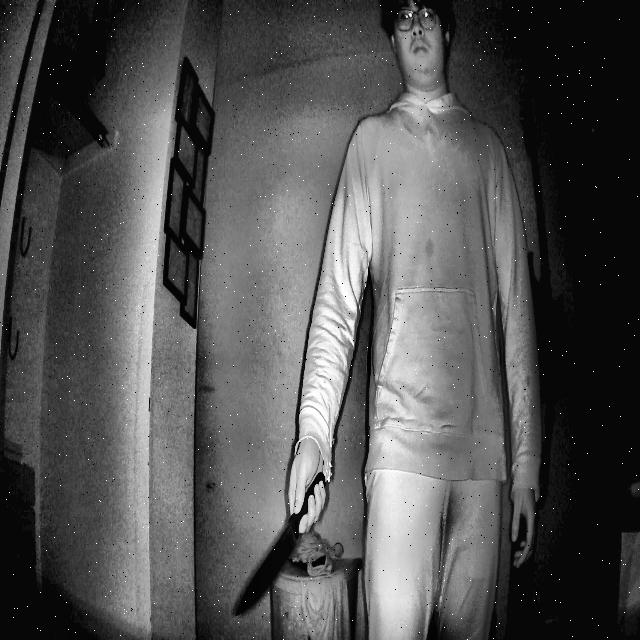knife: (222, 432, 350, 620)
